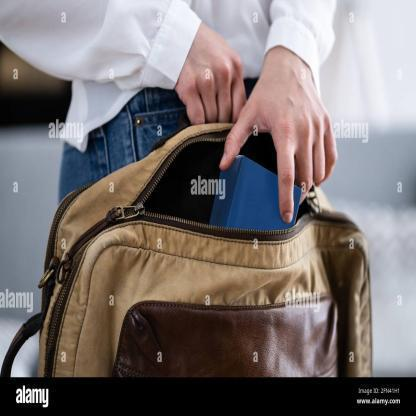Shoplifting: (121, 72, 347, 379)
